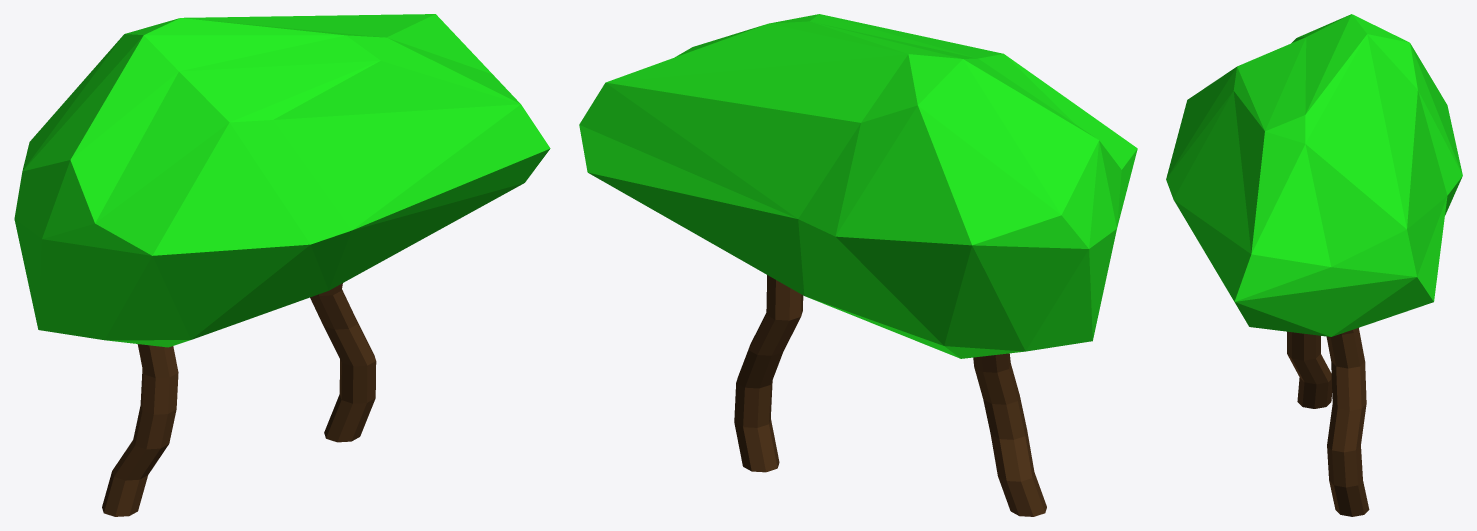
The model's file is big_low_poly_bush.glb.
3 views of the same model, side by side, from view 1: azimuth 30°, elevation 25°; view 2: azimuth 150°, elevation 25°; view 3: azimuth 270°, elevation 25° (orthographic). The views are drawn at different scales.
Parts seen in each view (by area): view 1: Icokugel.002; view 2: Icokugel.002; view 3: Icokugel.002.
Part boxes in pixels (x1,y1,x2,y2): Icokugel.002: (14, 14, 550, 516); Icokugel.002: (579, 14, 1137, 516); Icokugel.002: (1166, 14, 1462, 516).
Size of the model in its own units: 1.21 by 1.11 by 0.7309.
